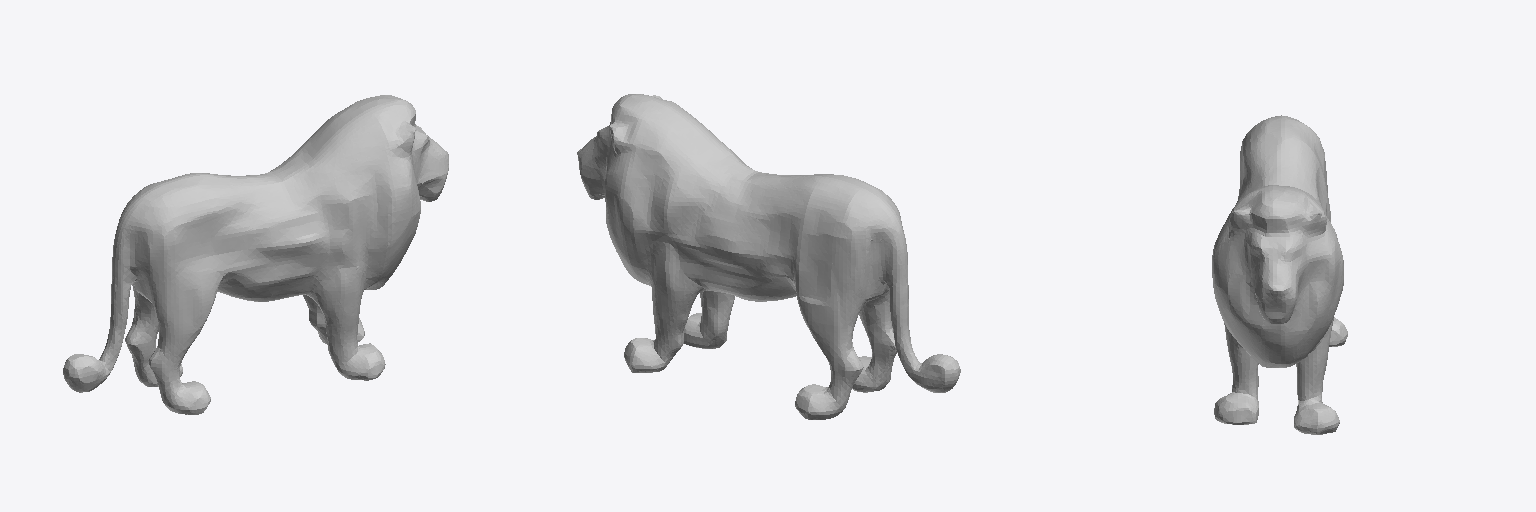
Rendered from uploads_files_5354356_model.obj.
The picture shows the model from 3 angles: view 1: azimuth 30°, elevation 25°; view 2: azimuth 150°, elevation 25°; view 3: azimuth 270°, elevation 25°; orthographic projection.
Visible parts, largest first — view 1: Mesh_0; view 2: Mesh_0; view 3: Mesh_0.
Part boxes in pixels (left/top/right/bottom): Mesh_0: left=63, top=95, right=448, bottom=414; Mesh_0: left=577, top=94, right=960, bottom=419; Mesh_0: left=1212, top=115, right=1347, bottom=434.
Size of the model in its own units: 1.2 by 0.7518 by 0.3714.